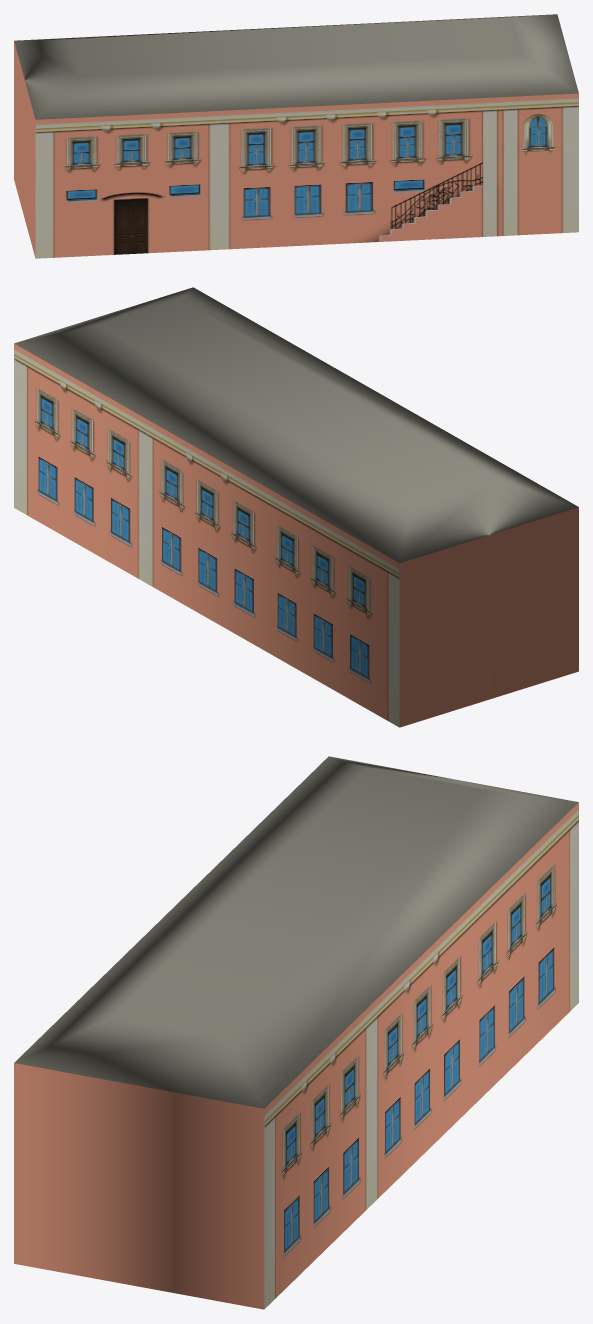
The model's file is lp-building24.fbx.
The picture shows the model from 3 angles, top to bottom: view 1: azimuth 30°, elevation 25°; view 2: azimuth 150°, elevation 25°; view 3: azimuth 270°, elevation 25°; orthographic projection. The views are drawn at different scales.
Visible parts, largest first — view 1: 01houses.031; view 2: 01houses.031; view 3: 01houses.031.
Part boxes in pixels (box(x1,y1,x2,y2)): 01houses.031: box(14, 14, 578, 258); 01houses.031: box(14, 287, 578, 727); 01houses.031: box(14, 756, 578, 1309).
Size of the model in its own units: 1038 by 315 by 703.
1 material, 1 textured.
